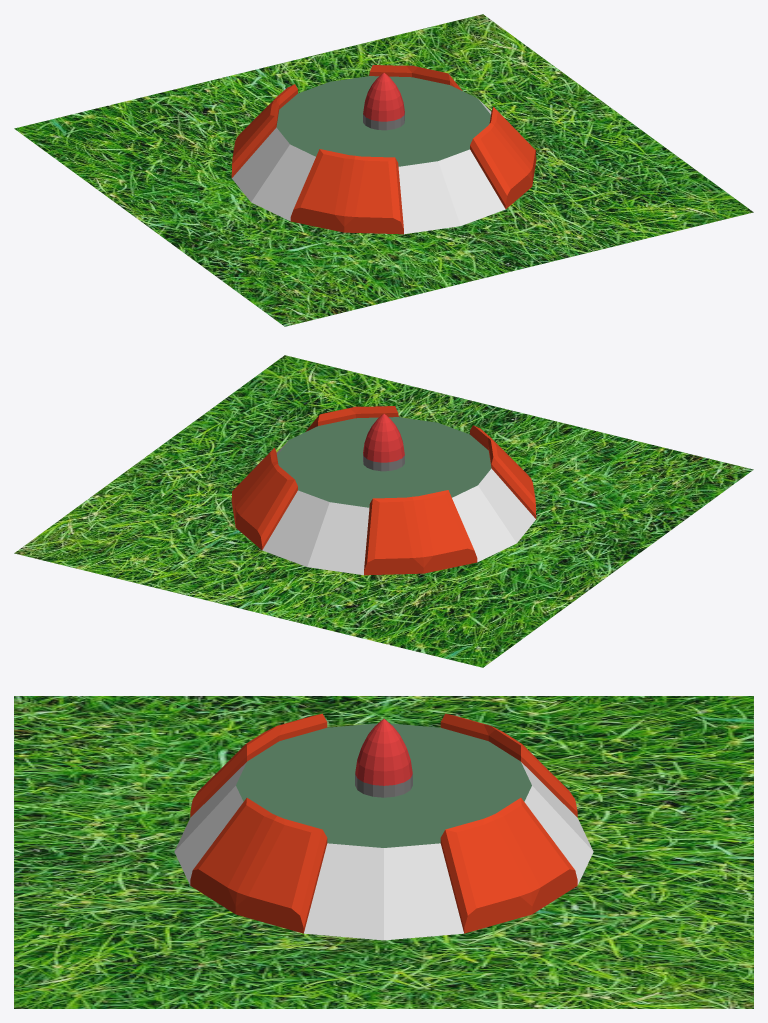
Rendered from pvo1.fbx.
3 views of the same model, one above another, from view 1: azimuth 30°, elevation 25°; view 2: azimuth 150°, elevation 25°; view 3: azimuth 270°, elevation 25° (orthographic). The views are drawn at different scales.
Visible parts, largest first — view 1: Plane, Circle, Cylinder; view 2: Plane, Circle, Cylinder; view 3: Plane, Circle, Cylinder.
Boxes of the visible parts, left/top/right/bottom form: Plane: left=14, top=14, right=753, bottom=326; Circle: left=231, top=65, right=536, bottom=234; Cylinder: left=363, top=73, right=404, bottom=130; Plane: left=14, top=355, right=753, bottom=667; Circle: left=231, top=406, right=536, bottom=575; Cylinder: left=363, top=414, right=404, bottom=471; Plane: left=14, top=696, right=753, bottom=1008; Circle: left=174, top=713, right=593, bottom=940; Cylinder: left=355, top=719, right=412, bottom=797.
Bounding box in the file's own units: 300 × 79.44 × 300.
